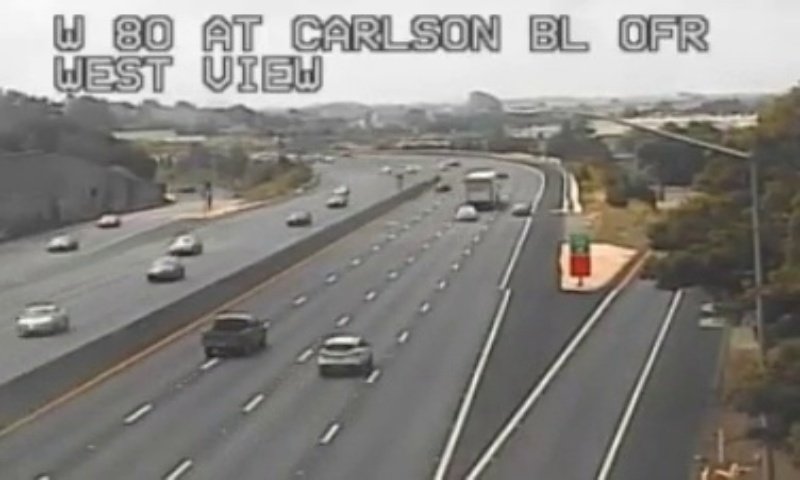car: (200, 312, 263, 355), (317, 335, 372, 371)
